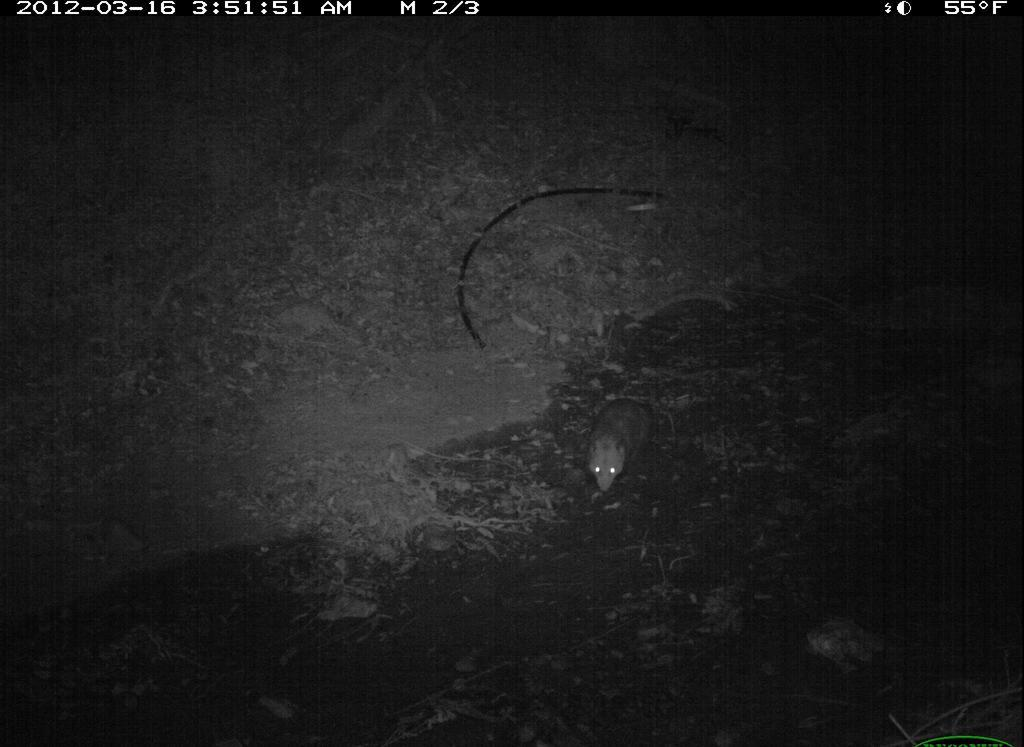opossum: (577, 391, 664, 500)
